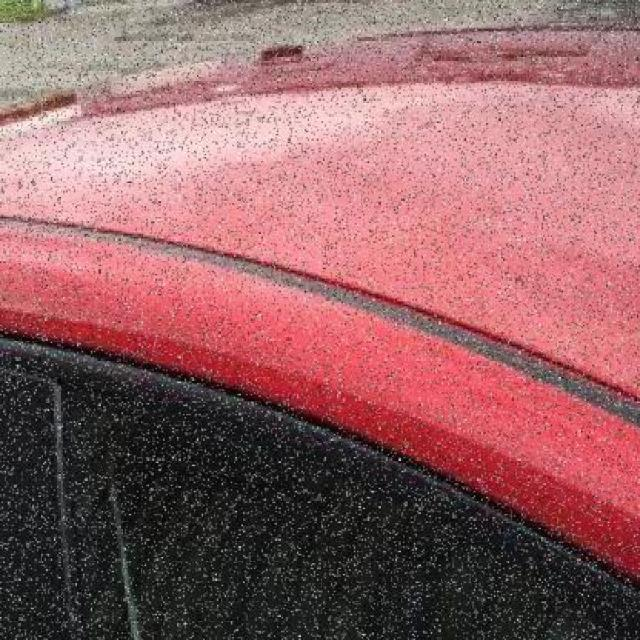roof-dent: (148, 48, 498, 324), (505, 28, 639, 327)
